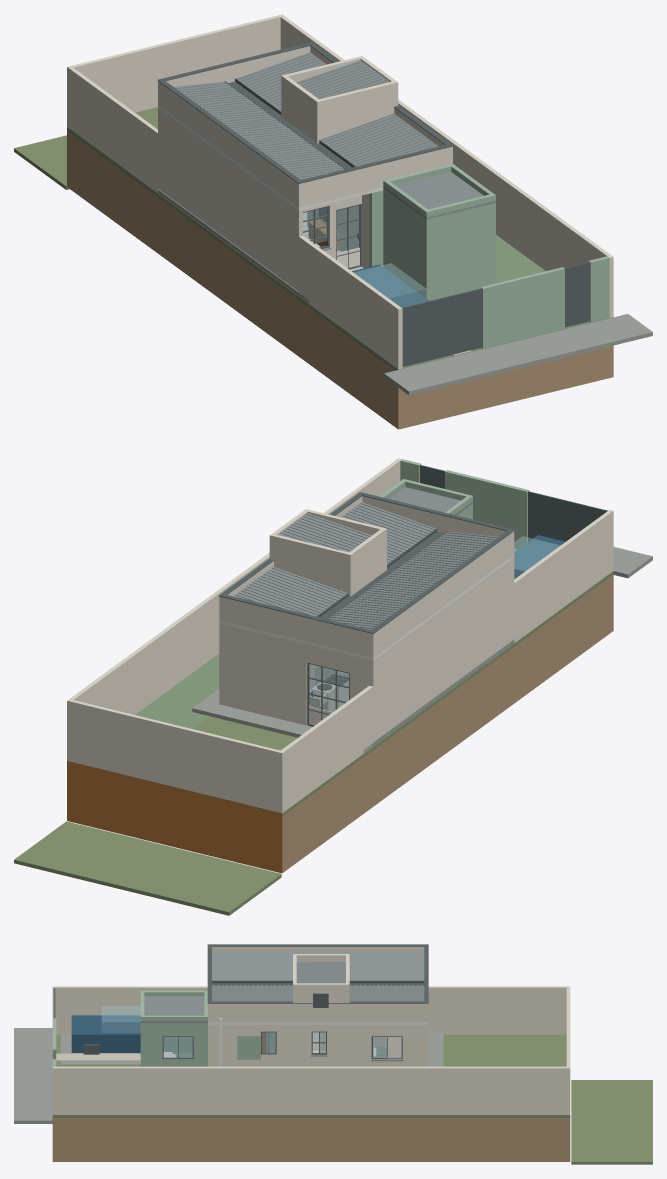
File: casa-bp-opcao-A.glb
3 renders of one model, top to bottom at view 1: azimuth 30°, elevation 25°; view 2: azimuth 150°, elevation 25°; view 3: azimuth 270°, elevation 25°, orthographic. The views are drawn at different scales.
Visible parts, largest first — view 1: Solo em corte esquemático — perfil lateral não levantado, Muro lateral na divisa da casa — 2,00 m (×2), Parede cega / divisa do desenho, Muro lateral direito do desenho — 2,00 m, Muro fundos — 2,00 m sobre terreno, Passeio público — contexto ilustrativo, Fechamento frontal com acessos sugeridos (×2), Portão sugerido — posição a confirmar (×2), A — fachada nova, Platibanda frente / fundo (×2), Volume elevado caixa d’água (×2), Pano 1 — social (+20 smaller); view 2: Solo em corte esquemático — perfil lateral não levantado, Face indicativa de contenção — 2 m estimados; seção e fundaç, Muro fundos — 2,00 m sobre terreno, Muro lateral na divisa da casa — 2,00 m (×2), Referência do nível do vizinho — extensão apenas ilustrativa, Parede cega / divisa do desenho, Muro lateral direito do desenho — 2,00 m, Fundo (×3), Terreno 7,50 × 20,00 m — cota plana provisória, Platibanda frente / fundo (×2), Volume elevado caixa d’água (×2), Pano 1 — social (+16 smaller); view 3: Muro lateral direito do desenho — 2,00 m, Solo em corte esquemático — perfil lateral não levantado, Muro lateral na divisa da casa — 2,00 m (×2), Referência do nível do vizinho — extensão apenas ilustrativa, Lateral existente — só janela do quarto reorganizada em A (×5), Terreno 7,50 × 20,00 m — cota plana provisória, Platibanda lateral (×2), Pano 1 — social, Passeio público — contexto ilustrativo, Carro compacto — referência 1,75 × 4,25 m, A — lateral nova da ampliação (×3), Volume elevado caixa d’água (×2) (+16 smaller).
Part boxes in pixels (x1,y1,x2,y2): Solo em corte esquemático — perfil lateral não levantado: (67, 131, 613, 429); Muro lateral na divisa da casa — 2,00 m (×2): (67, 66, 402, 369); Parede cega / divisa do desenho: (158, 108, 302, 291); Muro lateral direito do desenho — 2,00 m: (279, 14, 613, 317); Muro fundos — 2,00 m sobre terreno: (71, 15, 280, 112); Passeio público — contexto ilustrativo: (384, 314, 652, 395); Fechamento frontal com acessos sugeridos (×2): (480, 256, 609, 348); Portão sugerido — posição a confirmar (×2): (402, 262, 589, 366); A — fachada nova: (424, 206, 491, 300); Platibanda frente / fundo (×2): (166, 46, 448, 206); Volume elevado caixa d’água (×2): (281, 74, 394, 143); Pano 1 — social: (174, 81, 343, 179); Solo em corte esquemático — perfil lateral não levantado: (282, 574, 613, 872); Face indicativa de contenção — 2 m estimados; seção e fundaç: (67, 761, 282, 873); Muro fundos — 2,00 m sobre terreno: (71, 700, 280, 812); Muro lateral na divisa da casa — 2,00 m (×2): (278, 510, 613, 813); Referência do nível do vizinho — extensão apenas ilustrativa: (14, 821, 281, 915); Parede cega / divisa do desenho: (369, 558, 514, 741); Muro lateral direito do desenho — 2,00 m: (67, 458, 401, 761); Fundo (×3): (223, 624, 369, 725); Terreno 7,50 × 20,00 m — cota plana provisória: (135, 549, 613, 816); Platibanda frente / fundo (×2): (223, 496, 506, 656); Volume elevado caixa d’água (×2): (274, 527, 386, 596); Pano 1 — social: (329, 531, 498, 629); Muro lateral direito do desenho — 2,00 m: (52, 1066, 570, 1114); Solo em corte esquemático — perfil lateral não levantado: (52, 1118, 570, 1161); Muro lateral na divisa da casa — 2,00 m (×2): (52, 986, 570, 1034); Referência do nível do vizinho — extensão apenas ilustrativa: (571, 1080, 652, 1164); Lateral existente — só janela do quarto reorganizada em A (×5): (208, 1024, 428, 1066); Terreno 7,50 × 20,00 m — cota plana provisória: (52, 1034, 570, 1117); Platibanda lateral (×2): (208, 946, 428, 1022); Pano 1 — social: (212, 951, 424, 980); Passeio público — contexto ilustrativo: (14, 1028, 52, 1123); Carro compacto — referência 1,75 × 4,25 m: (71, 1015, 140, 1052); A — lateral nova da ampliação (×3): (140, 1024, 207, 1066); Volume elevado caixa d’água (×2): (293, 954, 349, 1022).
Size of the model in its own units: 8.5 by 6.68 by 24.7.
